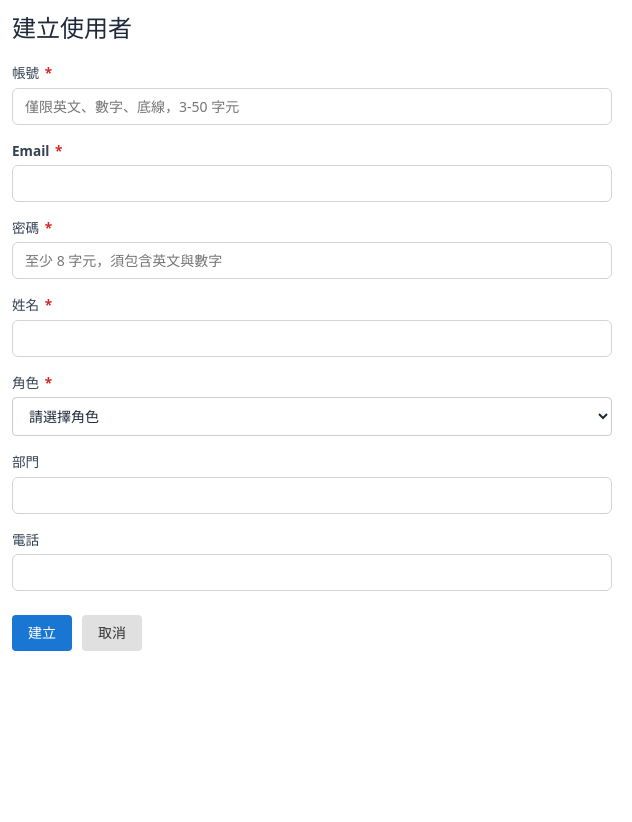
Test: UserCreatePage › validates channels required for sales role
The image size is (632, 822).
Expected: the dropdown labelled "角色 *" is shown, left=12, top=397, right=612, bottom=436
In the field labelled "帳號 *": (312, 106) left=12, top=88, right=612, bottom=125, type "salesuser"
In the field labelled "Email *": (312, 184) left=12, top=165, right=612, bottom=202, type "s@test.com"
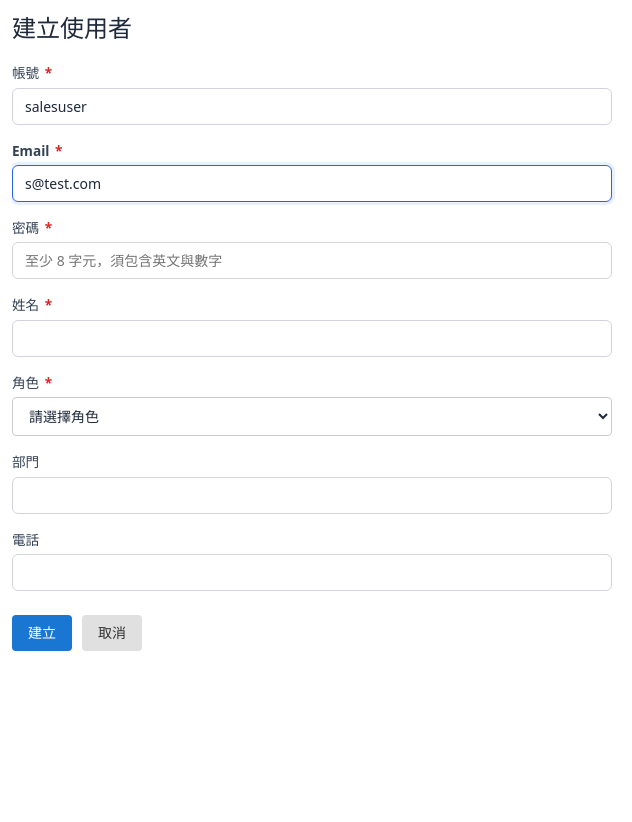
In the password field labelled "密碼 *": (312, 261) left=12, top=242, right=612, bottom=279, type "password123"
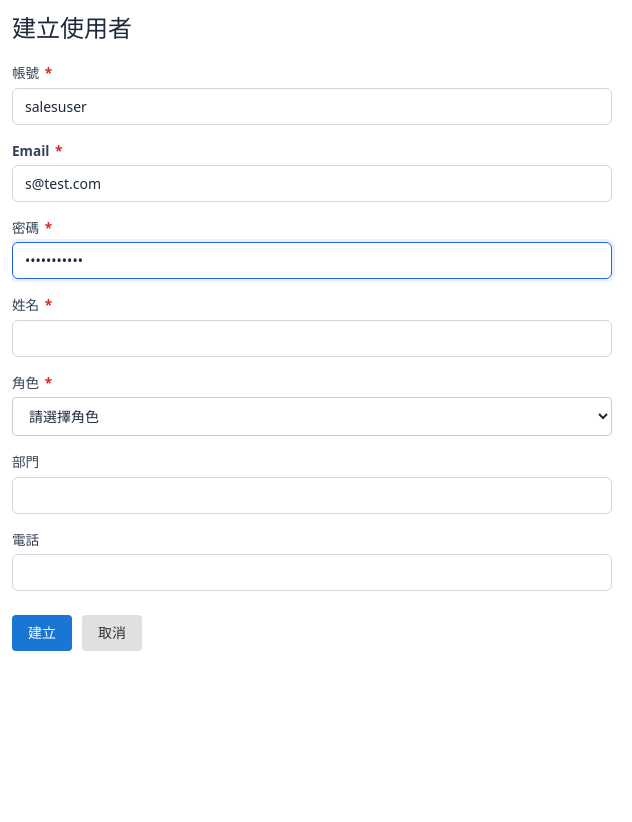
In the field labelled "姓名 *": (312, 338) left=12, top=320, right=612, bottom=357, type "Sales"
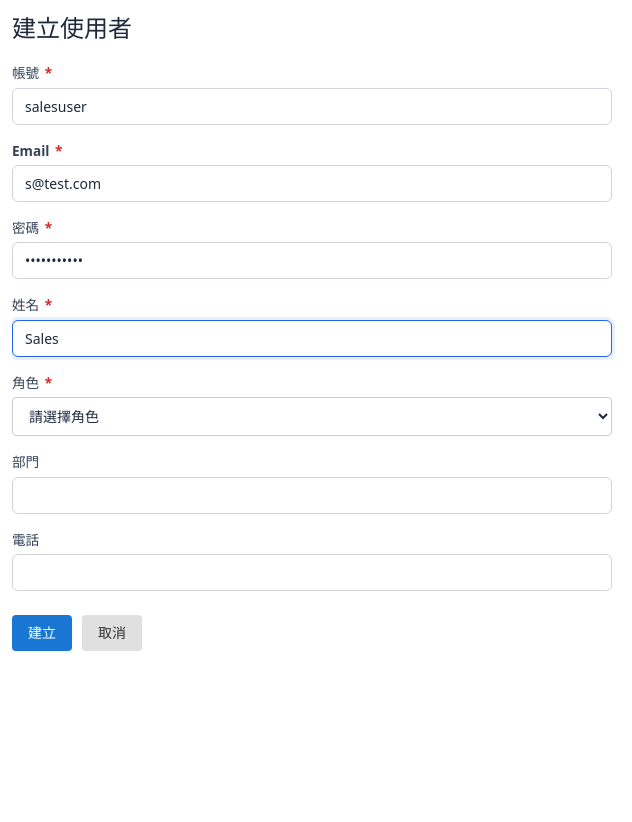
Select "Sales" in the dropdown labelled "角色 *": (312, 417) left=12, top=397, right=612, bottom=436
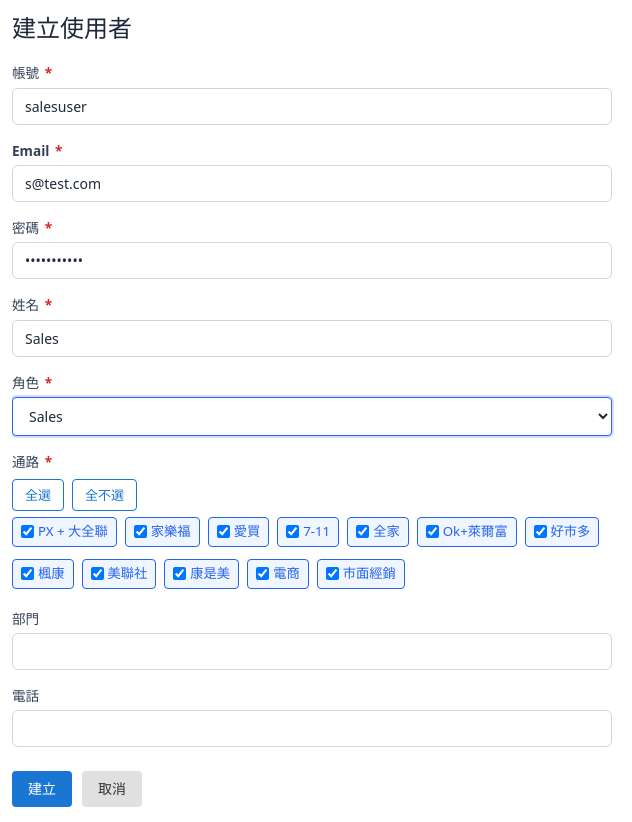
Click the button "全不選": (104, 495) left=72, top=478, right=137, bottom=511
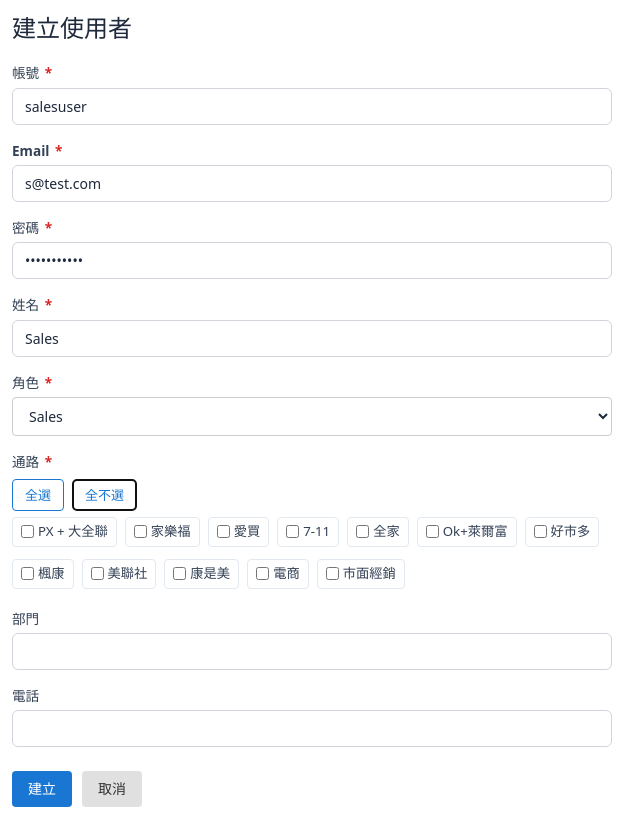
Click the button "建立": (42, 789) left=12, top=771, right=72, bottom=807
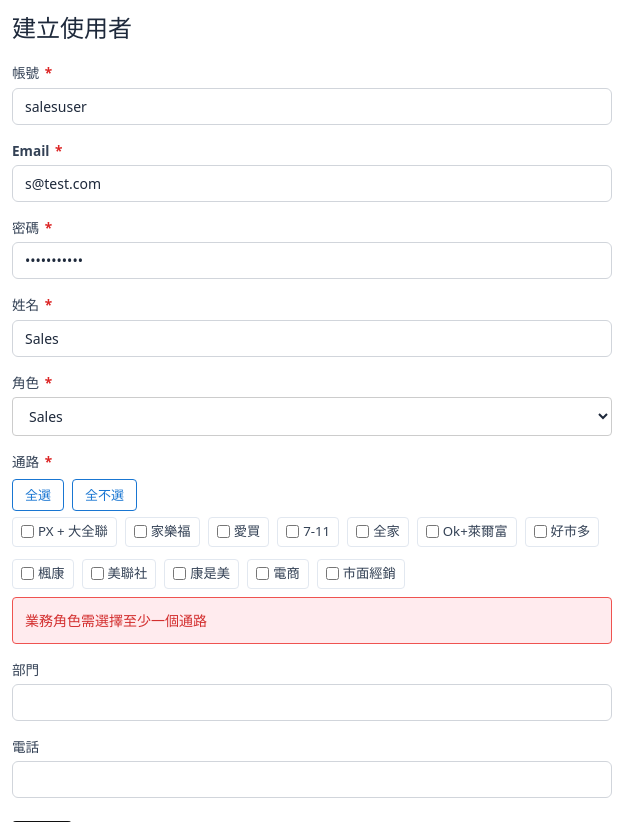
Now the text "業務角色需選擇至少一個通路" is shown, box left=12, top=597, right=612, bottom=644
